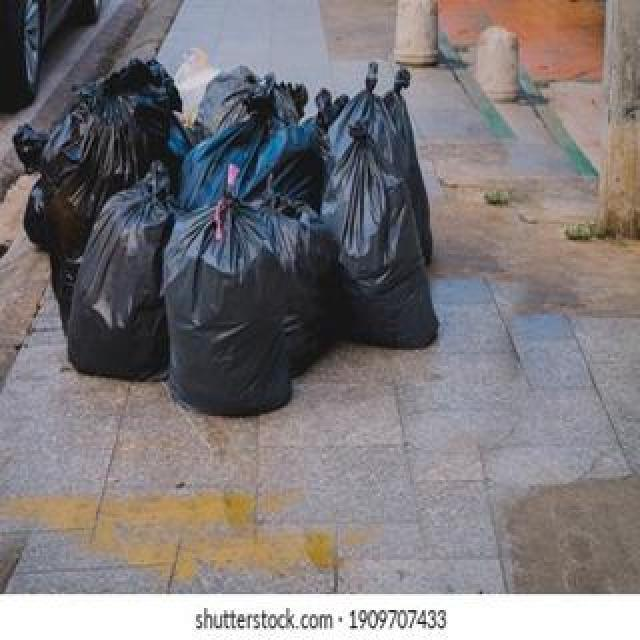Trashbag: (157, 201, 270, 416), (67, 178, 179, 389), (329, 149, 433, 342), (272, 179, 326, 402), (182, 118, 319, 194), (21, 114, 167, 174), (202, 61, 296, 115), (351, 89, 396, 157), (100, 74, 184, 108)
